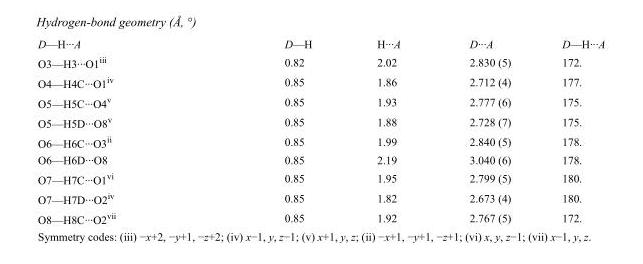table: (37, 37, 604, 225)
table column: (37, 37, 199, 225), (199, 37, 343, 225), (434, 37, 535, 225), (343, 37, 434, 225), (535, 37, 604, 225)
table row: (37, 51, 604, 71), (37, 71, 604, 91), (37, 91, 604, 111), (37, 111, 604, 131), (37, 131, 604, 151), (37, 187, 604, 207), (37, 168, 604, 187), (37, 207, 604, 225), (37, 151, 604, 168), (37, 37, 604, 51)
